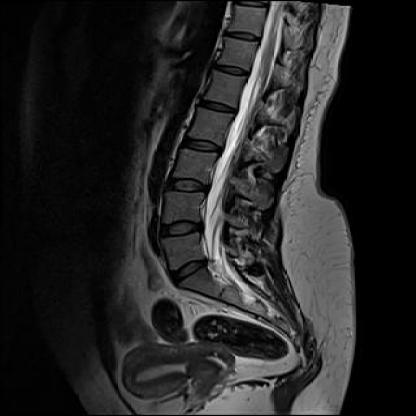Degenerative Disc Diseaserotation: (154, 216, 207, 243)
